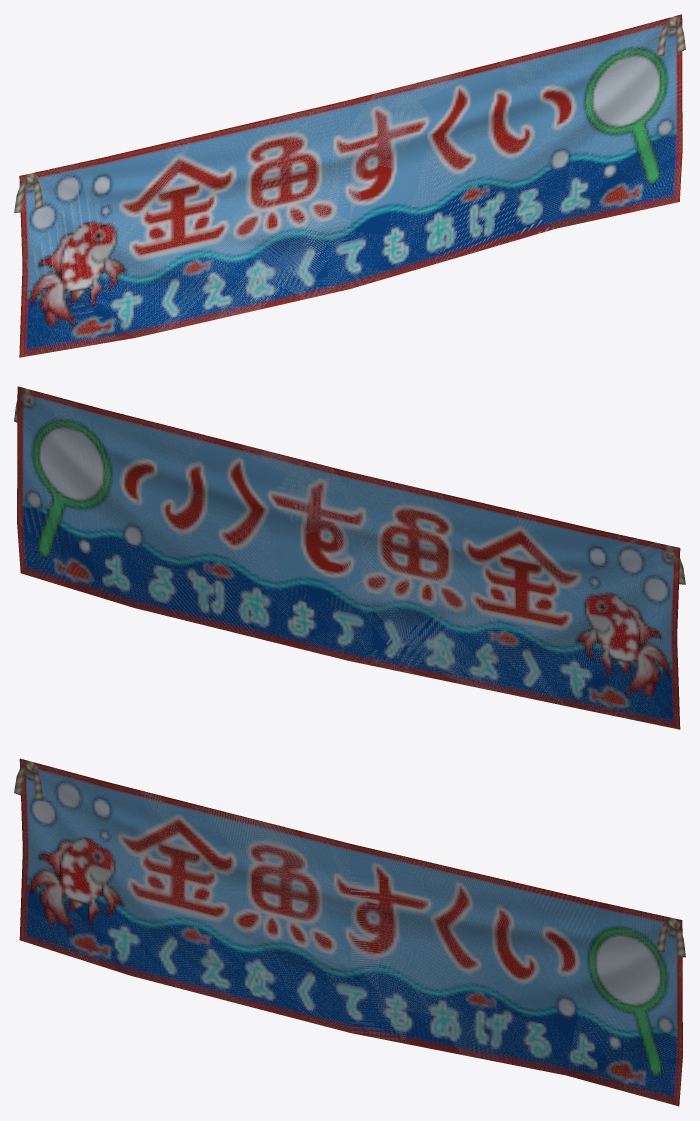
File: jsf_Flyer_Goldfish_11.fbx
The picture shows the model from 3 angles, top to bottom: view 1: azimuth 30°, elevation 25°; view 2: azimuth 150°, elevation 25°; view 3: azimuth 330°, elevation 25°; orthographic projection.
Parts seen in each view (by area): view 1: jsf_Flyer_Goldfish_11; view 2: jsf_Flyer_Goldfish_11; view 3: jsf_Flyer_Goldfish_11.
Part boxes in pixels (left/top/right/bottom): jsf_Flyer_Goldfish_11: left=14, top=14, right=685, bottom=357; jsf_Flyer_Goldfish_11: left=14, top=386, right=685, bottom=729; jsf_Flyer_Goldfish_11: left=14, top=758, right=685, bottom=1106.
Bounding box in the file's own units: 122 × 33.55 × 2.23.
